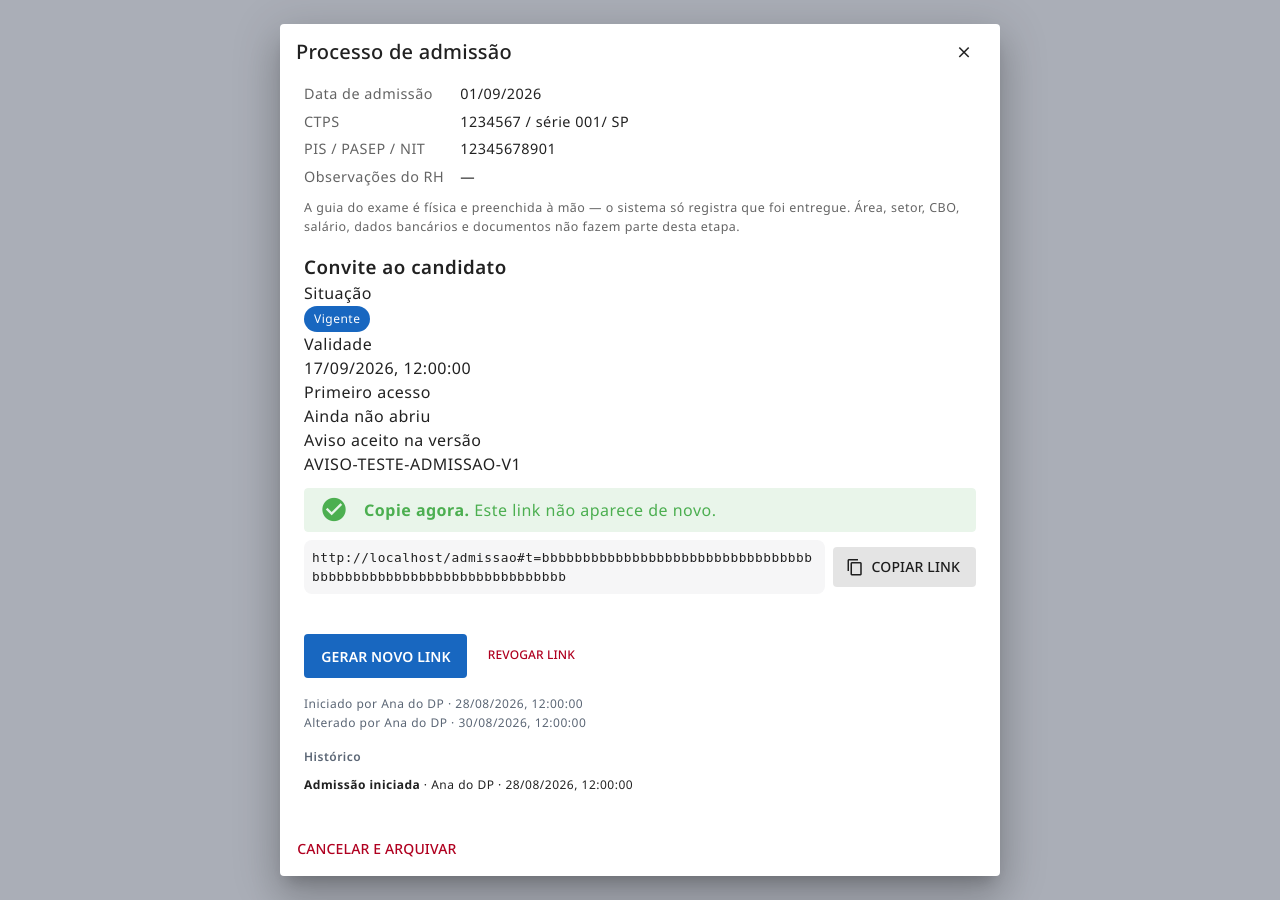
Test: o convite sai como LINK, e o token cru nunca aparece sozinho › Deve_DizerQueNaoCopiou_E_MandarCopiarAMao_Quando_A_CopiaFalha
(page scrolled)
Step 1. Click the button "Copiar link" → (905, 567), box [833,547,976,587]
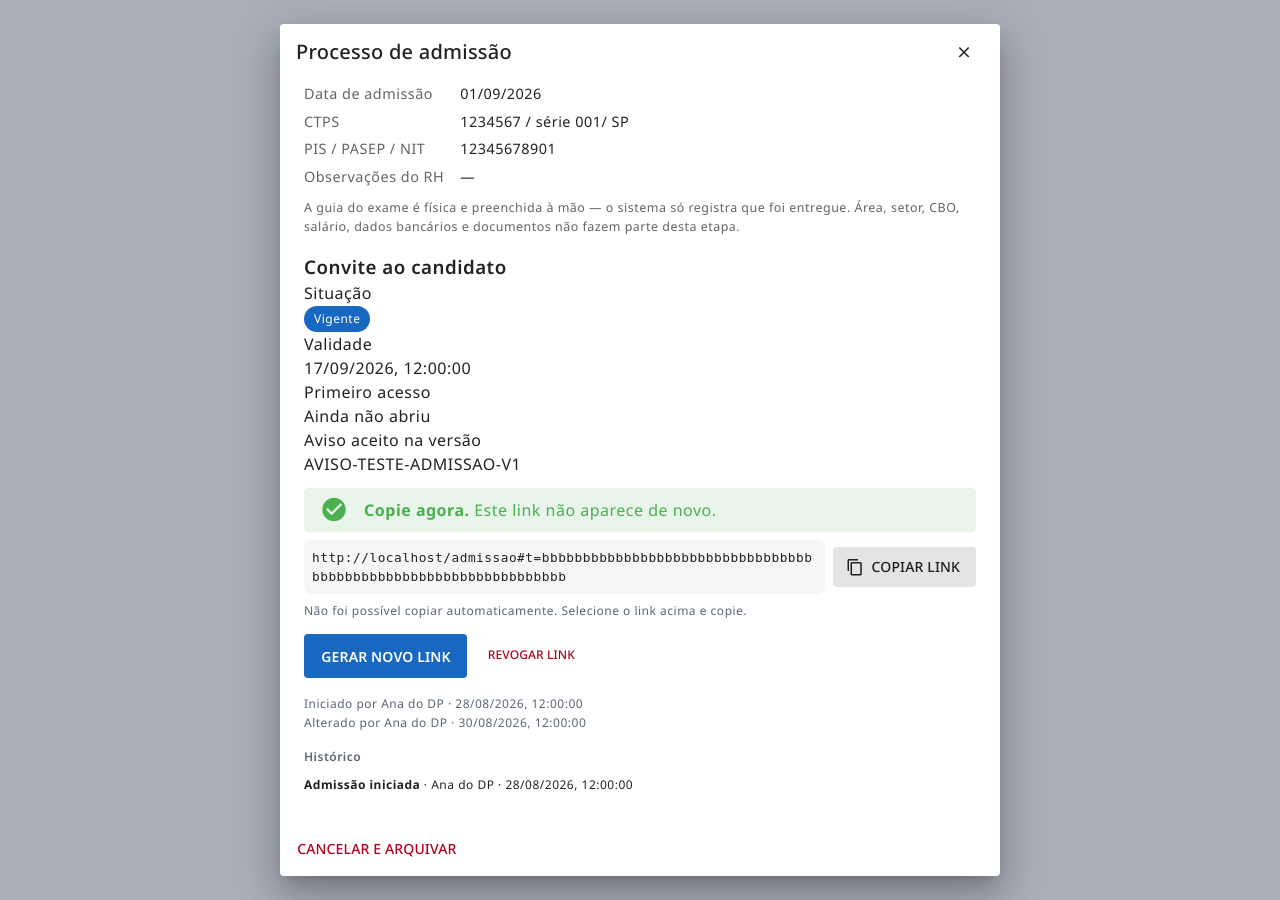
Expected: the text with class "detalhe-convite__link" shows "/admissao#t=", [312,550,812,584]
Expected: the message with class "detalhe-convite__copia" reads "Não foi possível copiar automaticamente. Selecione o link acima e copie.", [304,602,747,619]
